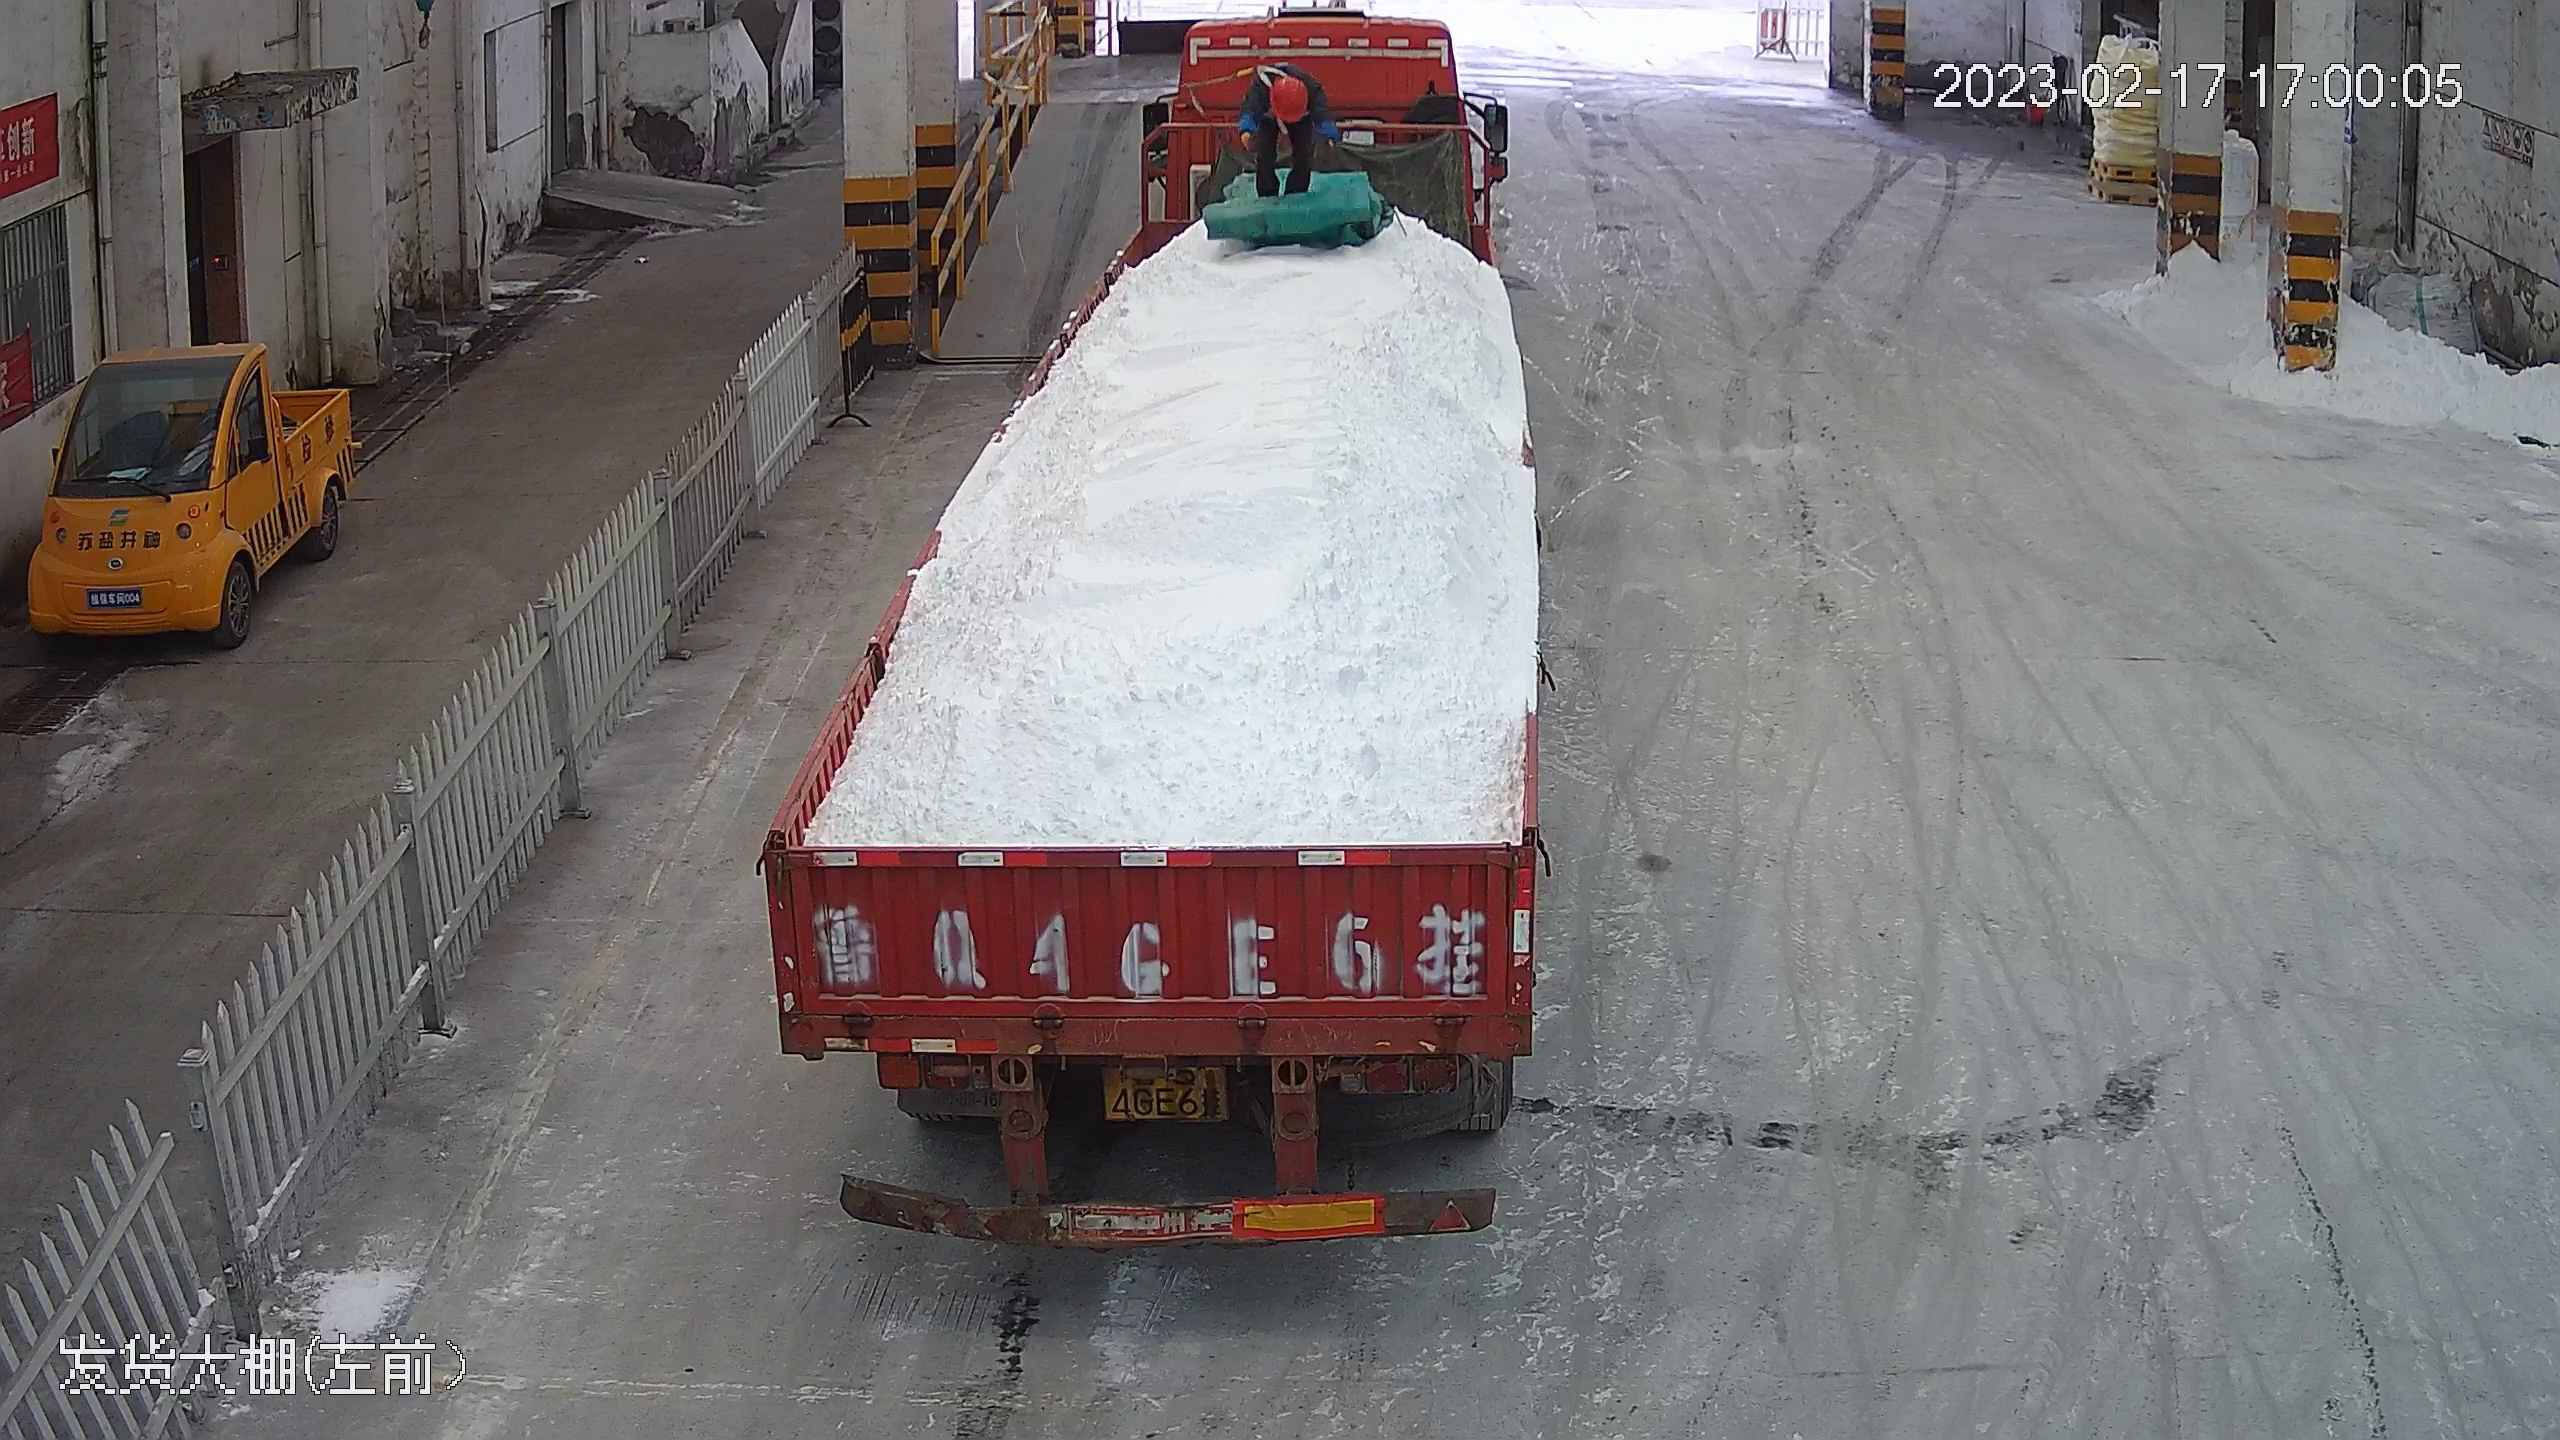belt: (1236, 55, 1295, 86)
head: (1245, 61, 1334, 135)
helmet: (1267, 76, 1309, 123)
people: (1237, 62, 1346, 195)
truck: (754, 3, 1556, 1254)
